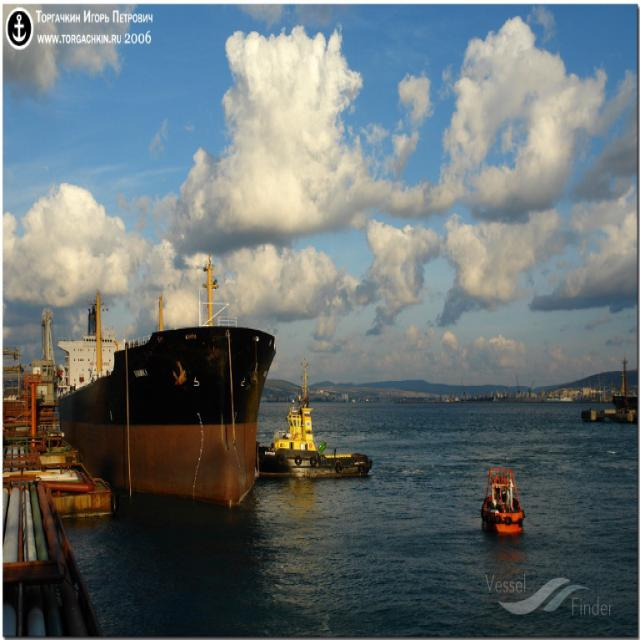Bulk Carrier: (60, 258, 275, 510)
tugboat: (258, 366, 373, 478)
